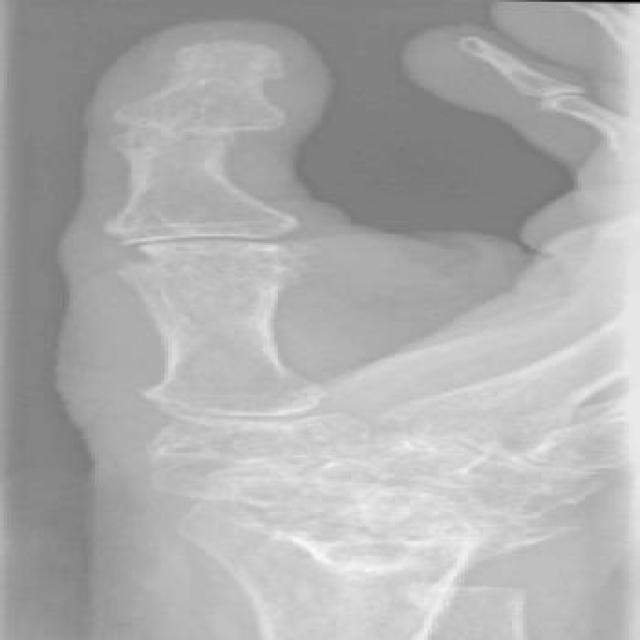Fracture: (189, 108, 299, 153)
